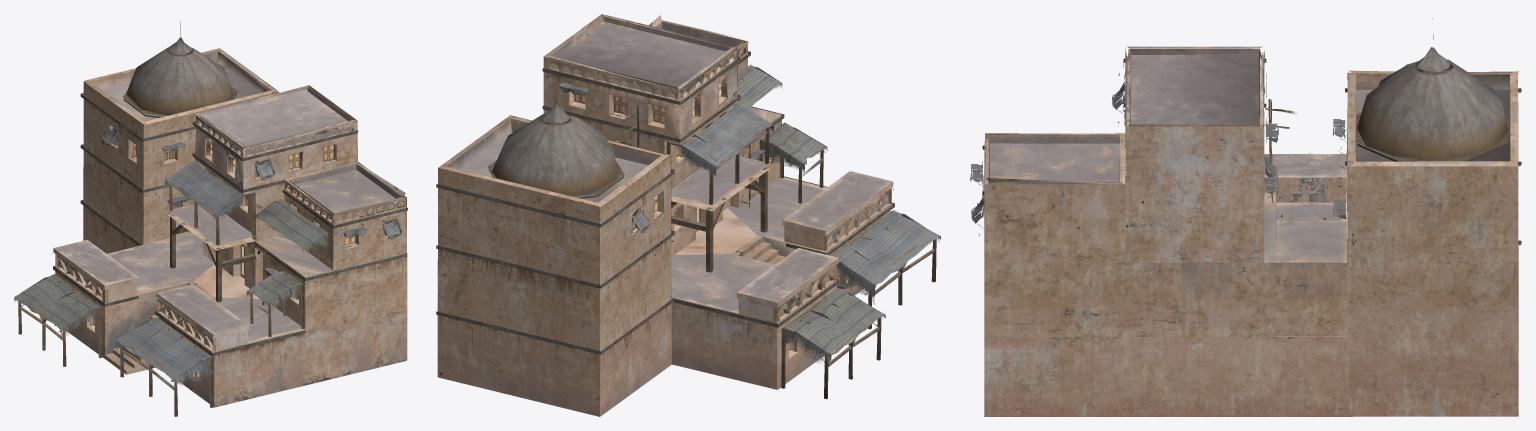
File: xi_dep_market_building_low.gltf
3 views of the same model, side by side, from view 1: azimuth 30°, elevation 25°; view 2: azimuth 150°, elevation 25°; view 3: azimuth 270°, elevation 25° (orthographic). The views are drawn at different scales.
Parts seen in each view (by area): view 1: xi_dep_market_building; view 2: xi_dep_market_building; view 3: xi_dep_market_building.
Part boxes in pixels (left/top/right/bottom): xi_dep_market_building: left=14, top=21, right=407, bottom=416; xi_dep_market_building: left=436, top=14, right=941, bottom=416; xi_dep_market_building: left=970, top=18, right=1521, bottom=416.
Bounding box in the file's own units: 15.68 × 13.86 × 19.5.
Materials: 4 (4 with a texture image).
